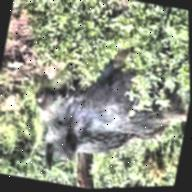boar: (23, 12, 192, 191)
